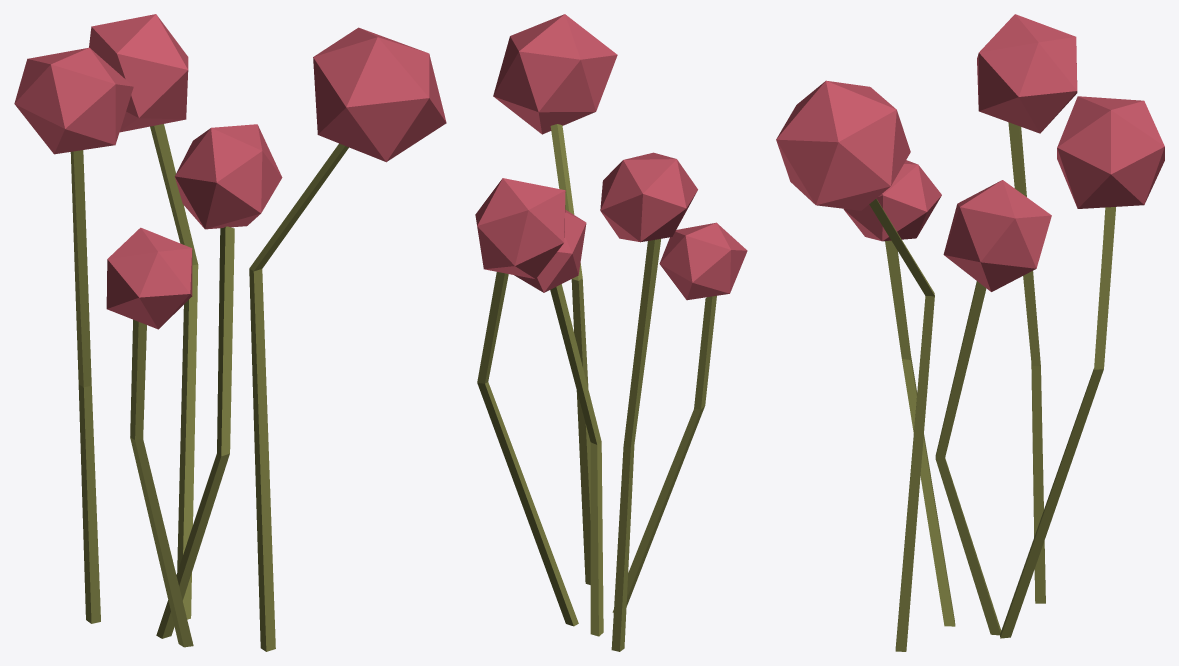
File: greek_flower_1.fbx
The picture shows the model from 3 angles, left to right: view 1: azimuth 30°, elevation 25°; view 2: azimuth 150°, elevation 25°; view 3: azimuth 270°, elevation 25°; orthographic projection. The views are drawn at different scales.
Visible parts, largest first — view 1: Icosphere.006; view 2: Icosphere.006; view 3: Icosphere.006.
Boxes of the visible parts, box(x1,y1,x2,y2) form: Icosphere.006: box(14, 14, 446, 651); Icosphere.006: box(475, 14, 747, 651); Icosphere.006: box(776, 14, 1164, 651).
Bounding box in the file's own units: 30.5 × 58.24 × 33.52.
